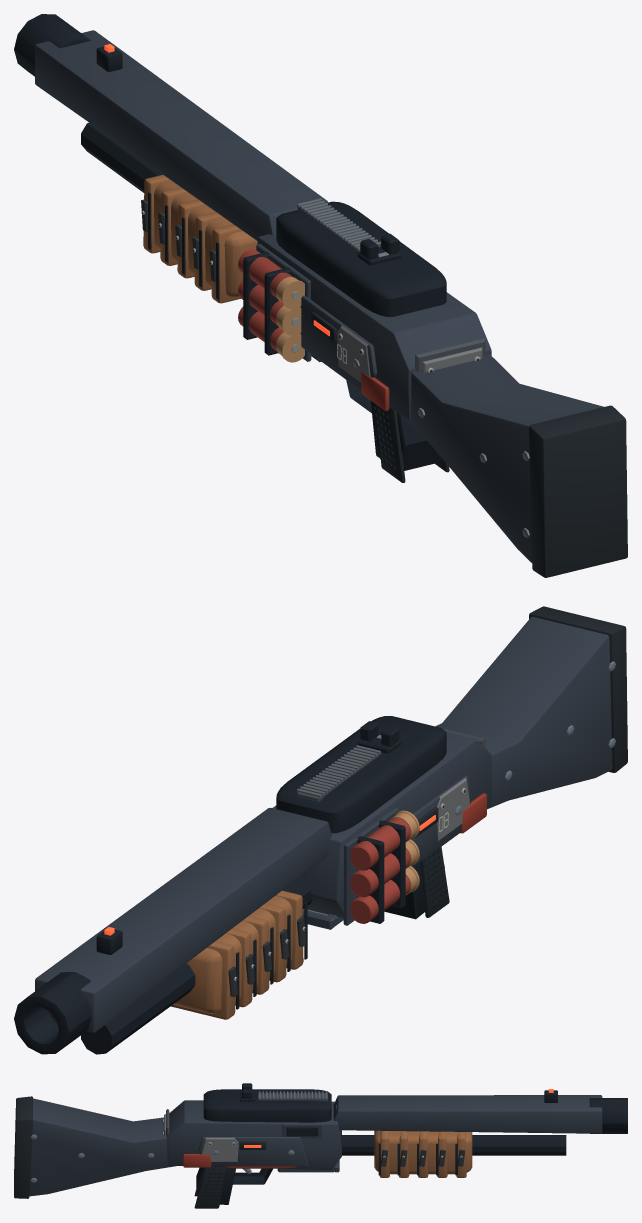
File: shotgun.glb
The picture shows the model from 3 angles, top to bottom: view 1: azimuth 30°, elevation 25°; view 2: azimuth 150°, elevation 25°; view 3: azimuth 270°, elevation 25°; orthographic projection. The views are drawn at different scales.
Visible parts, largest first — view 1: body, stock, pump; view 2: body, stock, pump; view 3: body, stock, pump.
Boxes of the visible parts, <box> form: body: <box>14,14,491,482</box>; stock: <box>406,353,627,577</box>; pump: <box>141,174,257,303</box>; body: <box>14,716,491,1054</box>; stock: <box>435,606,627,809</box>; pump: <box>170,890,307,1019</box>; body: <box>162,1083,627,1208</box>; stock: <box>14,1096,177,1198</box>; pump: <box>374,1130,472,1177</box>.
Bounding box in the file's own units: 0.2322 × 0.3696 × 1.79.
